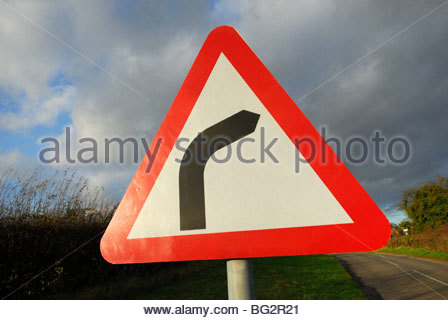Bend_to_right: (97, 23, 392, 265)
